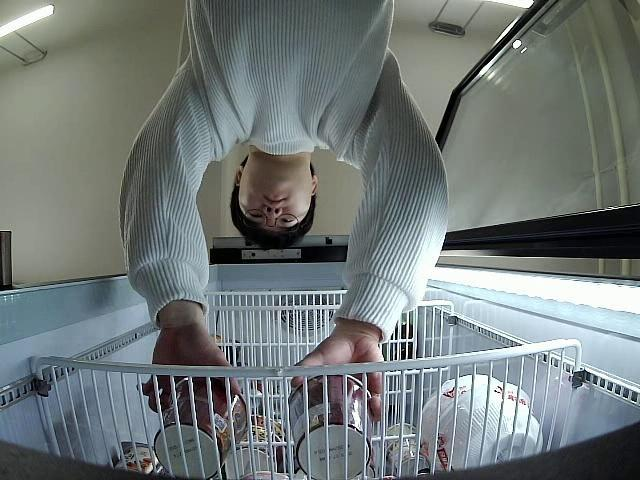06_nuguri_S: (152, 374, 249, 480), (286, 371, 374, 480)
